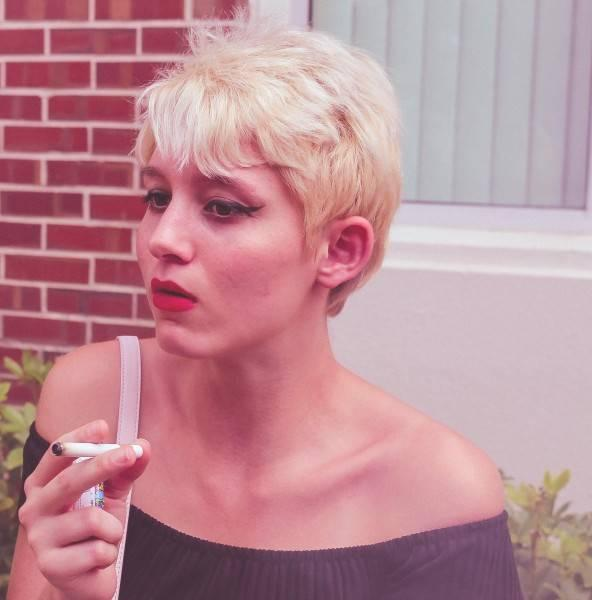smoke: (48, 434, 149, 466)
